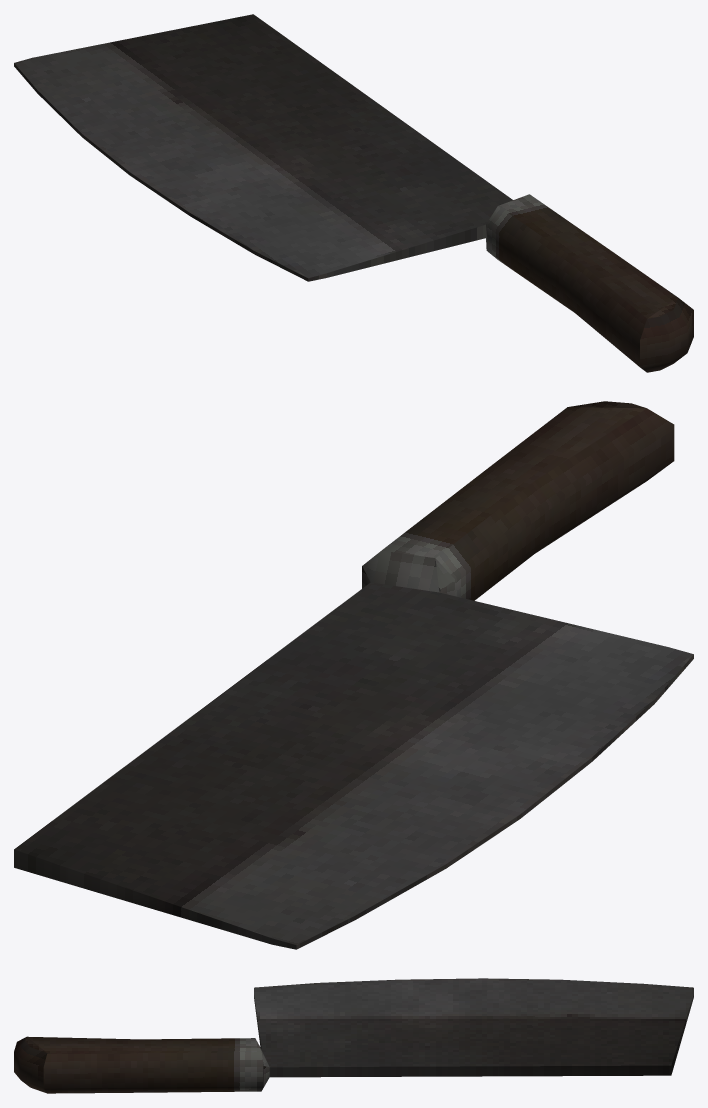
File: butcher_knife_mp_1.glb
3 renders of one model, top to bottom at view 1: azimuth 30°, elevation 25°; view 2: azimuth 150°, elevation 25°; view 3: azimuth 270°, elevation 25°, orthographic. The views are drawn at different scales.
Parts seen in each view (by area): view 1: butcher_knife_mp_1; view 2: butcher_knife_mp_1; view 3: butcher_knife_mp_1.
Boxes of the visible parts, x1,y1,x2,y2 form: butcher_knife_mp_1: (14,14,693,372); butcher_knife_mp_1: (14,401,693,949); butcher_knife_mp_1: (14,978,693,1093).
Bounding box in the file's own units: 0.1746 × 0.0334 × 0.5095.
1 material, 1 textured.
